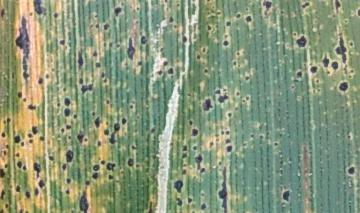tarspot: (14, 16, 31, 83), (334, 33, 348, 67), (217, 166, 227, 213), (79, 186, 90, 213), (126, 35, 136, 61), (32, 1, 48, 17), (109, 122, 121, 143), (76, 49, 85, 73), (199, 97, 213, 112), (193, 153, 203, 172), (32, 161, 41, 180), (262, 1, 272, 18), (173, 179, 184, 194), (297, 35, 308, 50), (333, 1, 343, 17), (64, 149, 75, 163), (112, 5, 123, 19), (80, 84, 94, 94), (322, 53, 330, 70), (282, 189, 291, 203), (338, 81, 349, 92), (38, 178, 47, 191), (106, 162, 117, 172), (126, 158, 136, 169), (102, 21, 111, 33), (76, 133, 85, 145), (331, 60, 340, 72), (62, 96, 72, 106), (244, 14, 254, 24), (295, 69, 303, 81), (347, 166, 356, 176), (46, 154, 57, 162), (64, 107, 72, 118), (146, 201, 154, 212), (175, 197, 183, 208), (218, 95, 229, 103), (199, 202, 208, 211), (221, 40, 230, 49), (225, 145, 234, 154), (27, 103, 37, 111), (140, 35, 148, 45), (94, 116, 100, 129), (16, 160, 23, 171), (61, 162, 68, 173), (64, 186, 71, 197), (13, 134, 21, 143), (31, 126, 39, 135), (92, 164, 101, 172), (91, 172, 100, 180), (106, 174, 115, 182), (180, 152, 189, 160), (191, 128, 199, 137), (302, 1, 311, 9), (310, 65, 318, 74), (1, 6, 6, 20), (33, 188, 40, 198), (234, 12, 242, 20), (207, 141, 215, 149), (168, 15, 175, 24), (181, 35, 188, 44), (186, 196, 193, 205), (224, 20, 233, 27), (1, 167, 6, 179), (24, 191, 31, 199), (65, 177, 73, 184), (88, 22, 95, 30), (114, 43, 122, 50), (130, 143, 137, 151), (149, 126, 156, 134), (206, 24, 213, 32), (224, 138, 232, 145), (83, 179, 92, 185), (103, 128, 109, 137), (198, 192, 207, 198), (1, 190, 6, 200), (53, 12, 60, 19), (37, 77, 44, 84), (72, 113, 79, 120), (167, 67, 174, 74), (121, 118, 128, 125), (181, 144, 188, 151), (223, 33, 230, 40), (235, 50, 242, 57), (214, 88, 221, 95), (39, 135, 45, 143), (15, 185, 21, 193), (95, 61, 101, 69), (96, 140, 102, 148), (356, 7, 360, 19), (59, 39, 66, 45), (44, 73, 50, 80), (17, 91, 23, 98), (4, 143, 11, 149), (15, 151, 21, 158), (60, 128, 66, 135), (93, 13, 100, 19), (92, 50, 98, 57), (162, 60, 168, 67), (104, 99, 111, 105), (128, 104, 135, 110), (191, 145, 198, 151), (201, 46, 207, 53), (244, 74, 250, 81), (244, 94, 251, 100), (348, 40, 354, 47), (22, 165, 27, 173), (65, 125, 73, 130), (95, 22, 100, 30), (78, 77, 83, 85), (162, 1, 172, 5), (22, 97, 28, 103), (26, 132, 32, 138), (188, 120, 194, 126), (203, 68, 209, 74), (235, 91, 241, 97), (292, 32, 298, 38), (4, 163, 9, 170), (108, 41, 113, 48), (157, 70, 162, 77), (182, 169, 187, 176), (199, 168, 206, 173), (216, 11, 223, 16), (232, 61, 237, 68), (227, 112, 232, 119), (136, 164, 141, 171), (3, 119, 8, 125), (1, 132, 6, 138), (3, 150, 8, 156), (4, 203, 9, 209), (18, 208, 24, 213), (67, 135, 73, 140), (56, 101, 61, 107), (61, 86, 66, 92), (100, 72, 105, 78), (137, 60, 142, 66), (83, 137, 88, 143), (104, 120, 109, 126), (223, 88, 228, 94), (214, 138, 220, 143), (347, 135, 353, 140), (226, 129, 230, 136), (20, 141, 25, 146), (29, 139, 34, 144), (136, 7, 141, 12), (100, 159, 105, 164), (220, 131, 225, 136), (347, 74, 352, 79), (344, 19, 349, 24), (103, 77, 107, 83), (103, 42, 107, 48), (205, 1, 212, 4), (6, 118, 10, 123), (91, 111, 95, 116), (196, 55, 200, 60), (244, 7, 249, 11), (242, 97, 246, 102), (274, 142, 278, 147), (260, 135, 265, 139), (250, 134, 255, 138), (242, 143, 247, 147), (315, 79, 320, 83), (350, 69, 354, 74), (317, 88, 321, 93), (312, 89, 316, 94), (24, 210, 30, 213), (176, 3, 180, 7), (290, 85, 294, 89), (214, 134, 219, 137), (190, 210, 197, 212), (1, 209, 4, 213)
